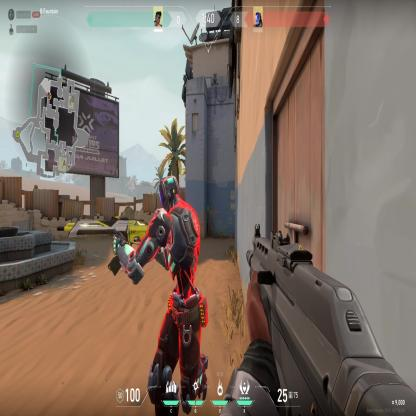enemy: (110, 172, 212, 376)
